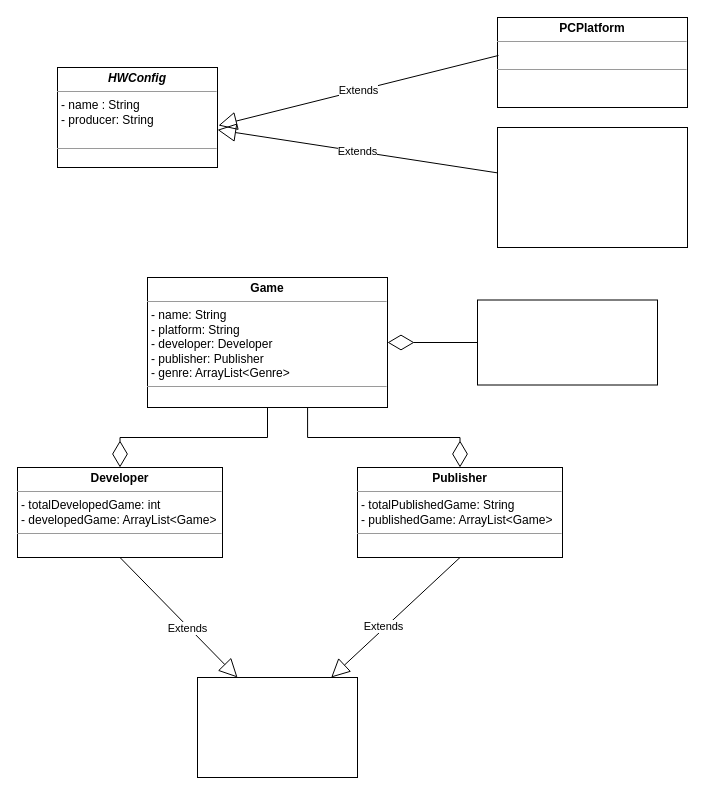
Some shapes in this 705 by 795 pixel diagram are drawn without their labels. The shapes that lost their labels are listed below. From the top down, each one's centre as x and y in pixels, then its label:
At [592,187]: "Platform - gpu: String - cpu: String - memory: String - storage: String".
At [567,342]: "Genre + name: String +totalGenre: int".
At [277,727]: "Company - name : String - location: String - foundingYear: String".
